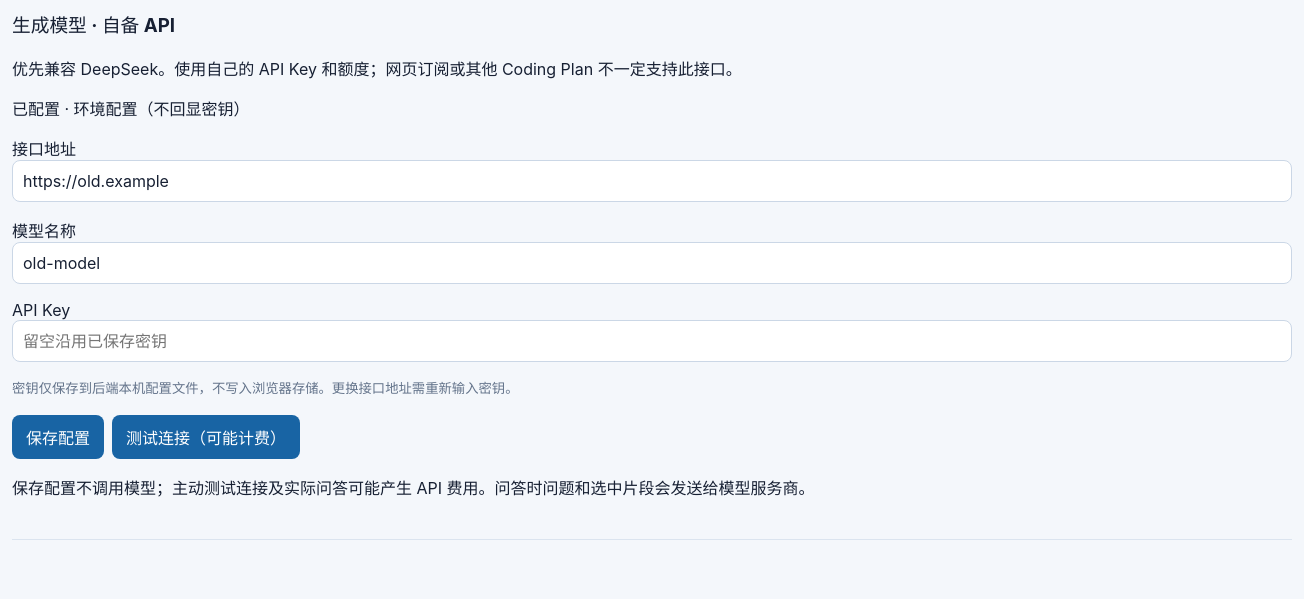
Test: allows a blank key on same endpoint but requires one when changing endpoint
Expected: the password field labelled "API Key" is empty, [12, 320, 1292, 362]
Replace the text in the field labelled "接口地址" with "https://other.example". click: coordinates (652, 181)
box: [12, 160, 1292, 202]
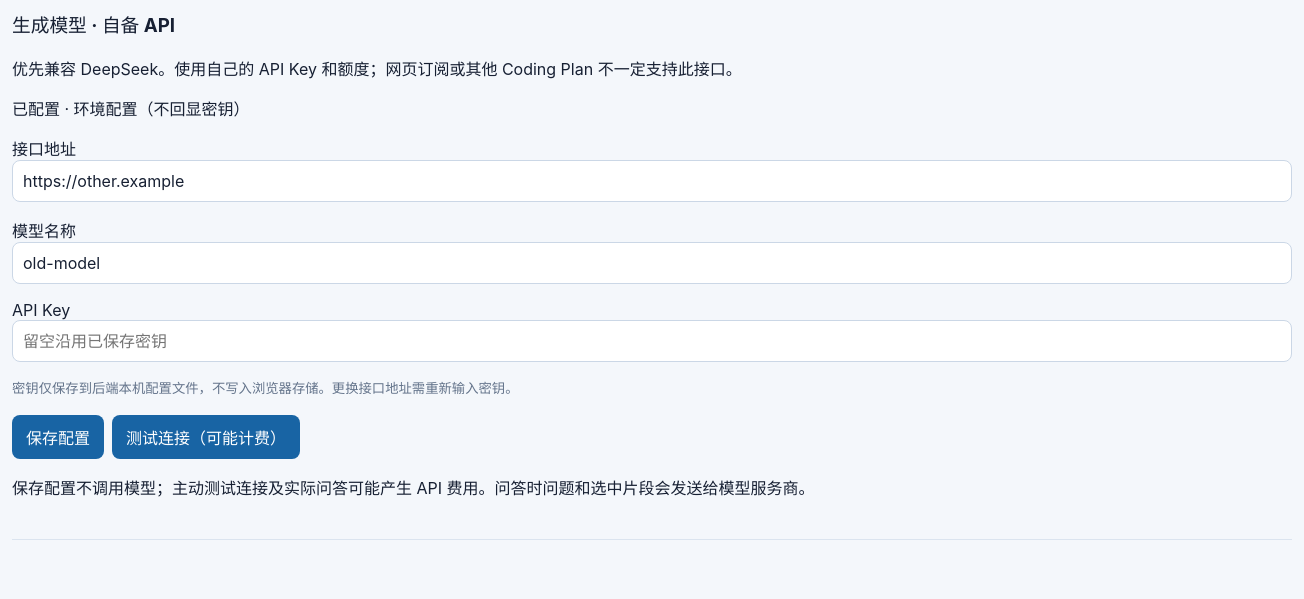
Click the button "保存配置". click: coordinates (58, 437)
box: [12, 415, 104, 459]
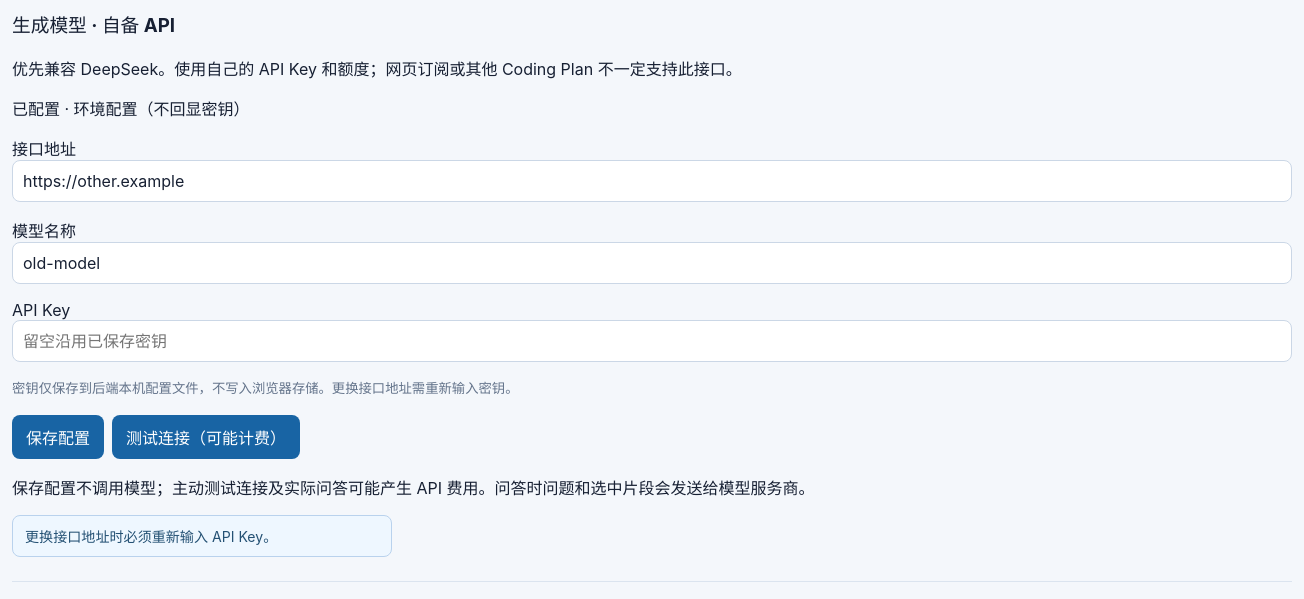
Expected: the text "更换接口地址时必须重新输入 API Key。" is shown, [12, 515, 392, 557]
